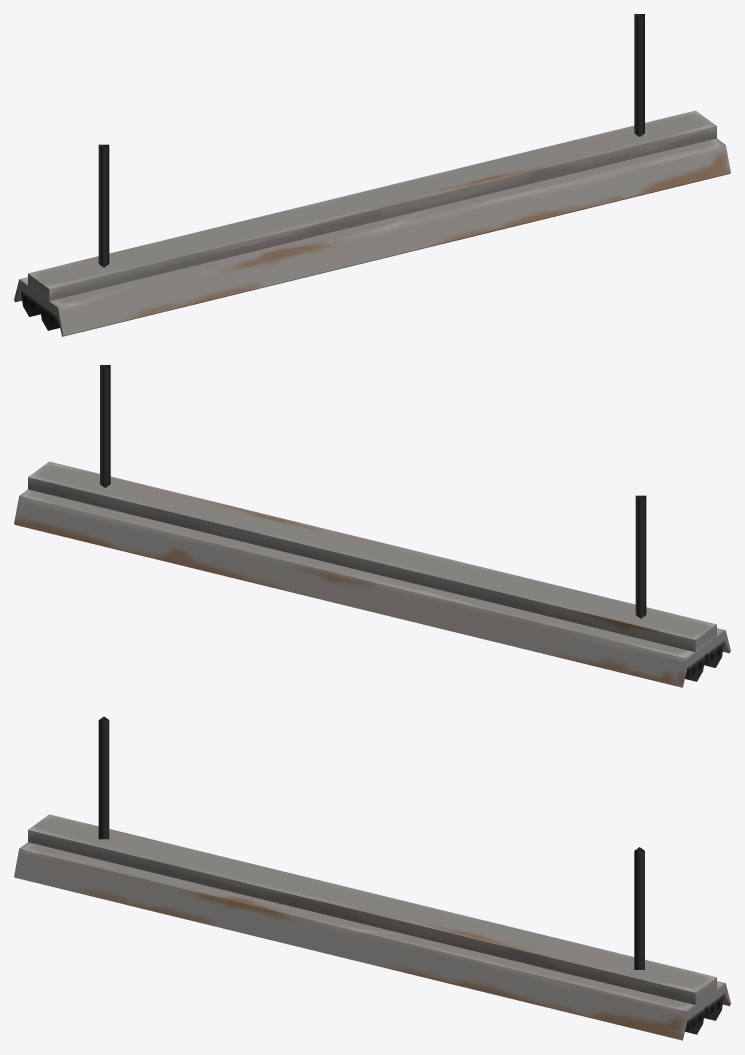
File: ELT0110016.fbx
The picture shows the model from 3 angles, top to bottom: view 1: azimuth 30°, elevation 25°; view 2: azimuth 150°, elevation 25°; view 3: azimuth 330°, elevation 25°; orthographic projection.
Parts seen in each view (by area): view 1: smELT0110016; view 2: smELT0110016; view 3: smELT0110016.
Part boxes in pixels (bbox=[...]): smELT0110016: bbox=[14, 14, 730, 336]; smELT0110016: bbox=[14, 365, 730, 687]; smELT0110016: bbox=[14, 716, 730, 1040].
Size of the model in its own units: 159 by 36.74 by 20.26.
Materials: 1 (1 with a texture image).
